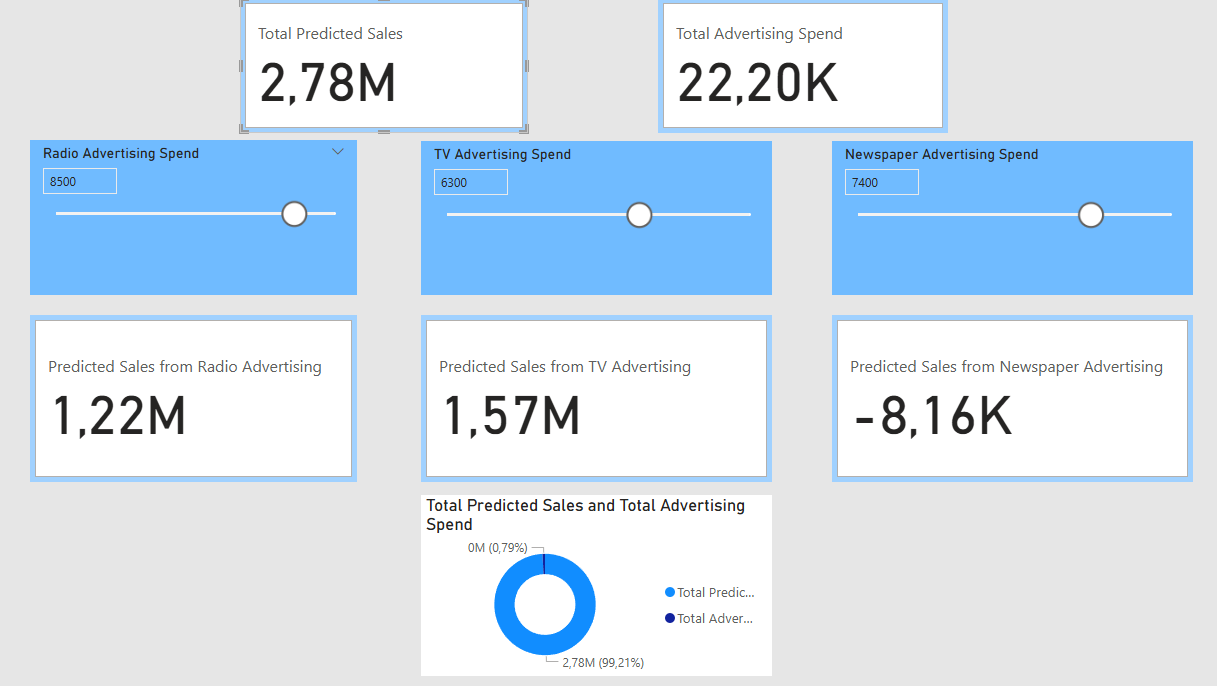

What the dashboard file says about the page in this screenshot:
{"tool":"powerbi","page":{"name":"Page 1","canvas":[1280,720],"ordinal":0},"visuals":[{"type":"slicer","fields":{"Values":["TV Advertising Spend.TV Advertising Spend"]},"box":[449.1,163.6,350.9,154.5],"z":0},{"type":"slicer","fields":{"Values":["Newspaper Advertising Spend.Newspaper Advertising Spend"]},"box":[860,163.6,360.9,154.5],"z":2},{"type":"slicer","fields":{"Values":["Radio Advertising Spend 2.Radio Advertising Spend"]},"box":[58.2,162.7,326.4,155.5],"z":3},{"type":"cardVisual","fields":{"Data":["Radio Advertising Spend.Predicted Sales"]},"box":[58.2,338.2,326.4,166.4],"z":4},{"type":"cardVisual","fields":{"Data":["Newspaper Advertising Spend.Predicted Sales from Newspaper Advertising"]},"box":[860,338.2,360.9,166.4],"z":5},{"type":"cardVisual","fields":{"Data":["TV Advertising Spend.Predicted Sales from TV Advertising"]},"box":[449.1,338.2,350.9,166.4],"z":6},{"type":"cardVisual","fields":{"Data":["Advertising Sales (2).Total Predicted Sales"]},"box":[268.2,11.8,288.2,135.5],"z":7},{"type":"cardVisual","fields":{"Data":["Advertising Sales (2).Total Advertising Spend"]},"box":[686.4,11.8,290,135.5],"z":8},{"type":"donutChart","fields":{"Y":["Advertising Sales (2).Total Predicted Sales","Advertising Sales (2).Total Advertising Spend"]},"box":[449.1,518.2,350.9,180.9],"z":9}]}

Visuals, with their boxes in screenshot pixels (x1, y1, x2, y2), scaled from the page's 1280x720 canvas onto the 1217x686 screenshot:
slicer - TV Advertising Spend.TV Advertising Spend: 427 156 761 303
slicer - Newspaper Advertising Spend.Newspaper Advertising Spend: 818 156 1161 303
slicer - Radio Advertising Spend 2.Radio Advertising Spend: 55 155 366 303
cardVisual - Radio Advertising Spend.Predicted Sales: 55 322 366 481
cardVisual - Newspaper Advertising Spend.Predicted Sales from Newspaper Advertising: 818 322 1161 481
cardVisual - TV Advertising Spend.Predicted Sales from TV Advertising: 427 322 761 481
cardVisual - Advertising Sales (2).Total Predicted Sales: 255 11 529 140
cardVisual - Advertising Sales (2).Total Advertising Spend: 653 11 928 140
donutChart - Advertising Sales (2).Total Predicted Sales x Advertising Sales (2).Total Advertising Spend: 427 494 761 666
